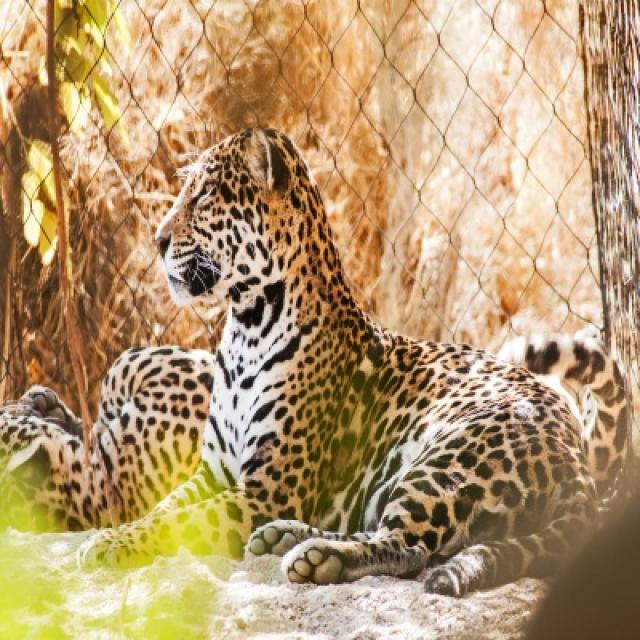Cheetah: (0, 128, 638, 600)
